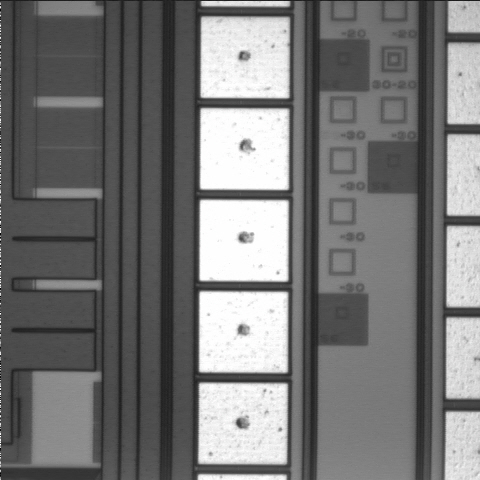pad: (199, 200, 289, 282), (200, 108, 289, 190), (199, 291, 288, 373), (198, 383, 288, 464), (201, 17, 289, 98)
